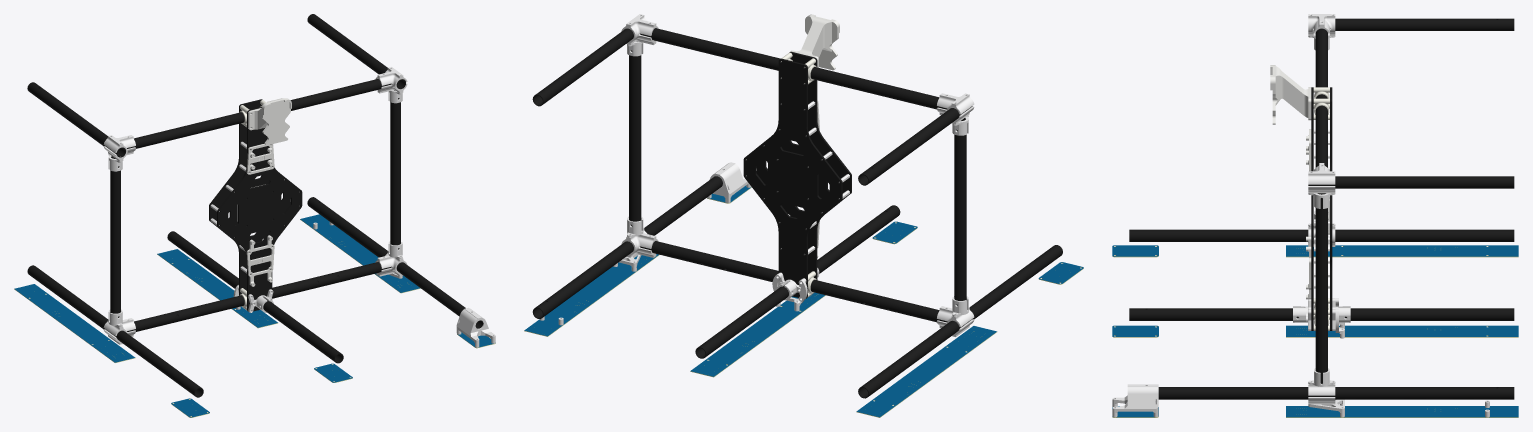
File: UR-9-0.1_Assy v23.obj
The picture shows the model from 3 angles, left to right: view 1: azimuth 30°, elevation 25°; view 2: azimuth 150°, elevation 25°; view 3: azimuth 270°, elevation 25°; orthographic projection. The views are drawn at different scales.
Visible parts, largest first — view 1: 2 x Frame Plate, Body1:20, Body1:21, Body1:22, 2 x Frame Plate:1, Body1:15, Body1:35, Body1:33, Body1:19, Body1:23, Body1:29, Body1:28 (+9 smaller); view 2: 2 x Frame Plate:1, Body1:21, Body1:20, Body1:22, 2 x Frame Plate, Body1:15, Body1:35, Body1:33, Body1:29, Body1:19, Body1:23, Body1:16 (+9 smaller); view 3: Body1:22, Body1:15, Body1:35, Body1:33, Body1:29, Body1:24, Body1:16, Body1:23, Body1:18, Body1:17, Body1:21, Body1:28 (+8 smaller).
Boxes of the visible parts, x1=… form: 2 x Frame Plate: x1=217, y1=107, x2=302, y2=311; Body1:20: x1=127, y1=262, x2=391, y2=331; Body1:21: x1=127, y1=79, x2=391, y2=148; Body1:22: x1=27, y1=265, x2=203, y2=397; 2 x Frame Plate:1: x1=209, y1=99, x2=290, y2=295; Body1:15: x1=307, y1=197, x2=483, y2=328; Body1:35: x1=14, y1=284, x2=135, y2=362; Body1:33: x1=157, y1=249, x2=277, y2=328; Body1:19: x1=110, y1=156, x2=120, y2=317; Body1:23: x1=390, y1=90, x2=400, y2=249; Body1:29: x1=300, y1=214, x2=420, y2=293; Body1:28: x1=248, y1=98, x2=291, y2=145; 2 x Frame Plate:1: x1=743, y1=58, x2=842, y2=298; Body1:21: x1=640, y1=28, x2=947, y2=109; Body1:20: x1=640, y1=241, x2=947, y2=322; Body1:22: x1=858, y1=245, x2=1062, y2=398; 2 x Frame Plate: x1=756, y1=52, x2=851, y2=279; Body1:15: x1=532, y1=176, x2=722, y2=318; Body1:35: x1=856, y1=326, x2=997, y2=417; Body1:33: x1=690, y1=292, x2=825, y2=377; Body1:29: x1=524, y1=254, x2=659, y2=336; Body1:19: x1=954, y1=118, x2=966, y2=305; Body1:23: x1=629, y1=41, x2=641, y2=226; Body1:16: x1=858, y1=106, x2=972, y2=185; Body1:22: x1=1129, y1=229, x2=1514, y2=241; Body1:15: x1=1158, y1=387, x2=1514, y2=399; Body1:35: x1=1286, y1=245, x2=1518, y2=257; Body1:33: x1=1286, y1=325, x2=1518, y2=337; Body1:29: x1=1286, y1=406, x2=1518, y2=417; Body1:24: x1=1308, y1=176, x2=1514, y2=188; Body1:16: x1=1335, y1=18, x2=1514, y2=30; Body1:23: x1=1315, y1=193, x2=1327, y2=383; Body1:18: x1=1345, y1=308, x2=1514, y2=320; Body1:17: x1=1129, y1=308, x2=1298, y2=320; Body1:21: x1=1315, y1=28, x2=1327, y2=167; Body1:28: x1=1270, y1=65, x2=1311, y2=124.
Bounding box in the file's own units: 525 × 373 × 524.
